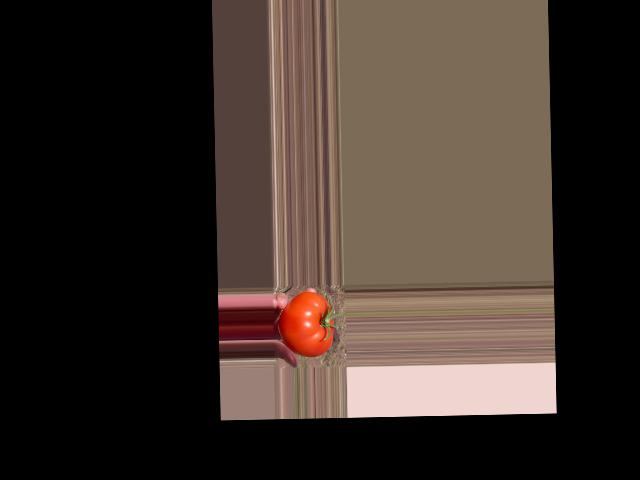tomato: (277, 290, 334, 357)
